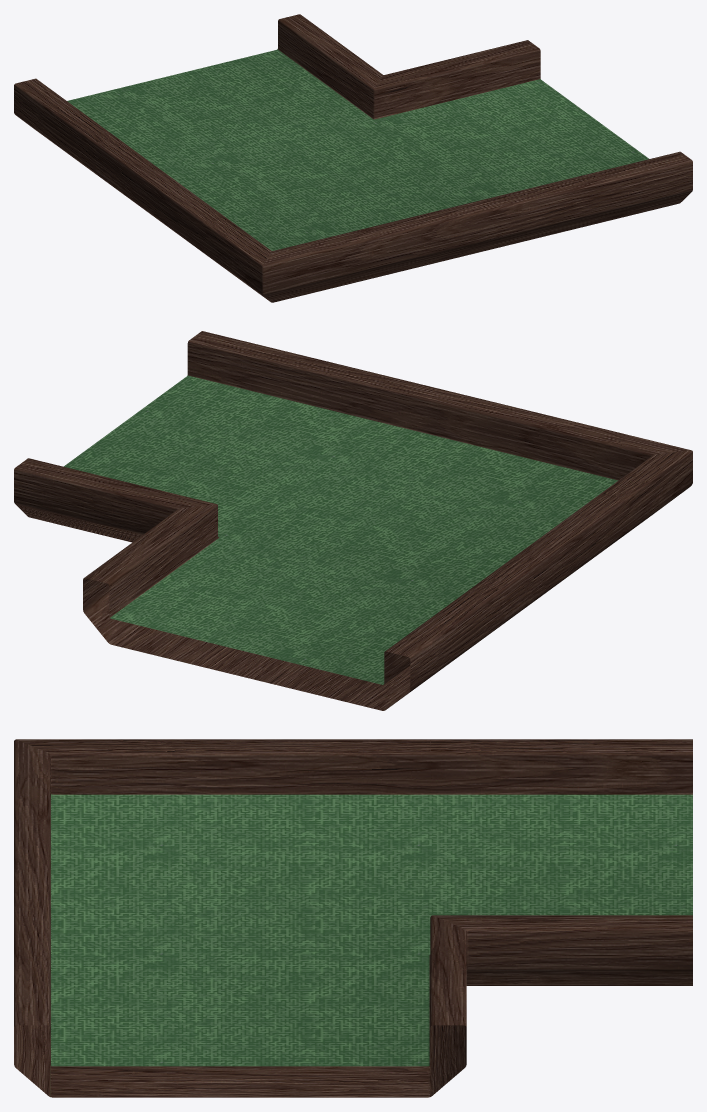
Rendered from Course_Corner.glb.
3 views of the same model, one above another, from view 1: azimuth 30°, elevation 25°; view 2: azimuth 150°, elevation 25°; view 3: azimuth 270°, elevation 25° (orthographic). The views are drawn at different scales.
Visible parts, largest first — view 1: CourseTurn; view 2: CourseTurn; view 3: CourseTurn.
Boxes of the visible parts, left/top/right/bottom form: CourseTurn: left=14, top=14, right=692, bottom=302; CourseTurn: left=14, top=331, right=692, bottom=710; CourseTurn: left=14, top=739, right=692, bottom=1097.
Bounding box in the file's own units: 1.5 × 0.1759 × 1.5.
1 material, 1 textured.
